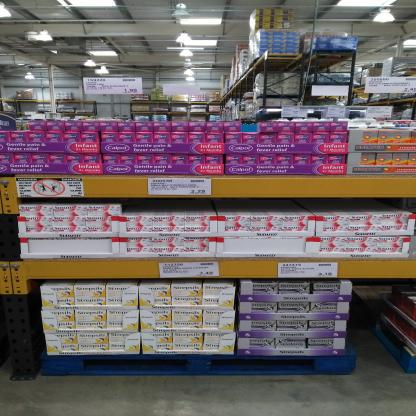Void: (355, 283, 404, 370), (124, 198, 412, 212), (2, 214, 18, 258)
